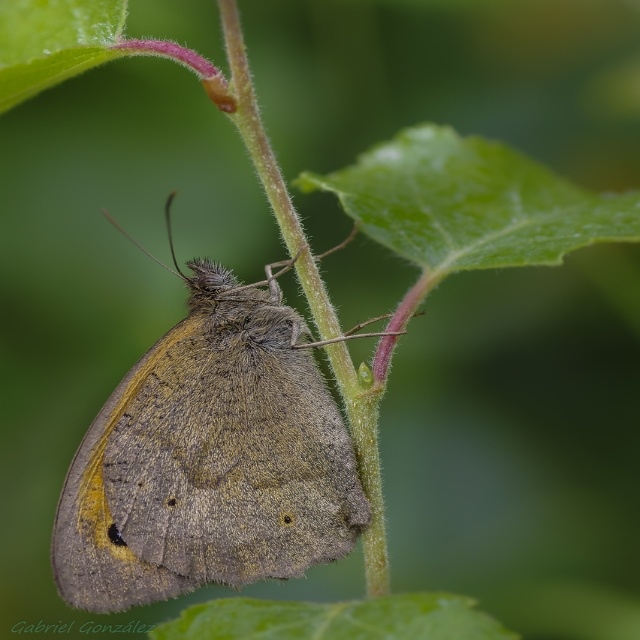Butterfly: (51, 179, 398, 606)
